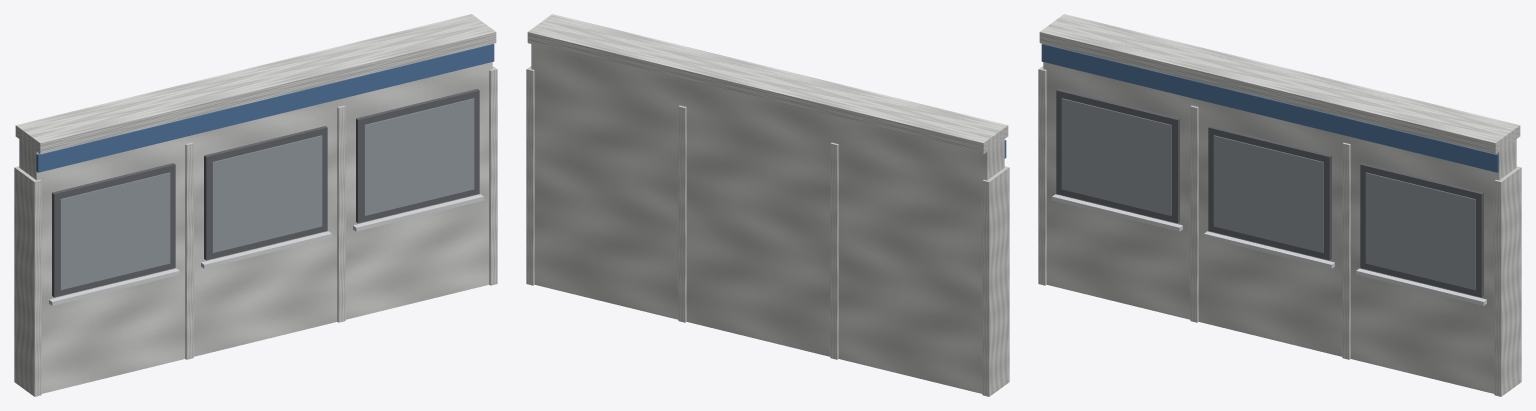
The model's file is cruise-ship-deck-and-lounge-cruise-ship-deck-and-loung-52b8659d__38412.glb.
3 views of the same model, side by side, from view 1: azimuth 30°, elevation 25°; view 2: azimuth 150°, elevation 25°; view 3: azimuth 330°, elevation 25° (orthographic).
Parts seen in each view (by area): view 1: cruise-ship-deck-and-lounge-superstructure-wall-run; view 2: cruise-ship-deck-and-lounge-superstructure-wall-run; view 3: cruise-ship-deck-and-lounge-superstructure-wall-run.
Part boxes in pixels (box(x1,y1,x2,y2)): cruise-ship-deck-and-lounge-superstructure-wall-run: box(14, 14, 497, 396); cruise-ship-deck-and-lounge-superstructure-wall-run: box(526, 14, 1009, 396); cruise-ship-deck-and-lounge-superstructure-wall-run: box(1038, 14, 1521, 396).
Size of the model in its own units: 6.09 by 3.2 by 0.5598.
5 materials, 1 textured.
